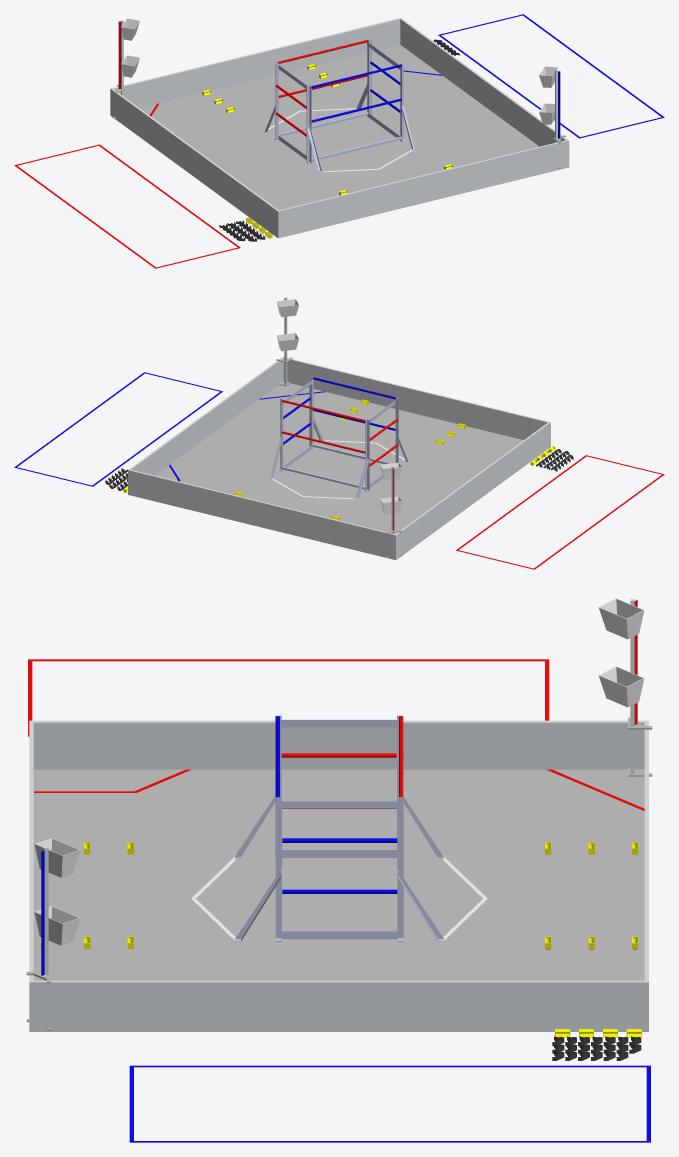
File: Low Polly FIeld v2.fbx
3 renders of one model, top to bottom at view 1: azimuth 30°, elevation 25°; view 2: azimuth 150°, elevation 25°; view 3: azimuth 270°, elevation 25°, orthographic. The views are drawn at different scales.
Parts seen in each view (by area): view 1: Tile (×30), Body2, Tape Zone (×2), Right Blue Pillier (×2); view 2: Tile (×30), Body2, Tape Zone (×2); view 3: Tile (×30), Body2, Tape Zone (×2), Body1 (×4), Rung Pillar Connector (×2), Top Rung Pillar Connector (×2), Right Blue Pillier, Left Blue Pillier.
Part boxes in pixels (left/top/right/bottom): Tile (×30): left=140, top=44, right=537, bottom=208; Body2: left=110, top=18, right=569, bottom=238; Tape Zone (×2): left=14, top=14, right=664, bottom=268; Right Blue Pillier (×2): left=306, top=39, right=372, bottom=164; Tile (×30): left=156, top=381, right=523, bottom=533; Body2: left=128, top=357, right=550, bottom=560; Tape Zone (×2): left=14, top=372, right=664, bottom=569; Tile (×30): left=33, top=769, right=644, bottom=980; Body2: left=29, top=720, right=648, bottom=1031; Tape Zone (×2): left=28, top=659, right=650, bottom=1142; Body1 (×4): left=34, top=598, right=644, bottom=945; Rung Pillar Connector (×2): left=275, top=849, right=397, bottom=939; Top Rung Pillar Connector (×2): left=275, top=719, right=398, bottom=808; Right Blue Pillier: left=397, top=797, right=403, bottom=941; Left Blue Pillier: left=275, top=797, right=281, bottom=941.
Size of the model in its own units: 6685 by 1144 by 3658.
